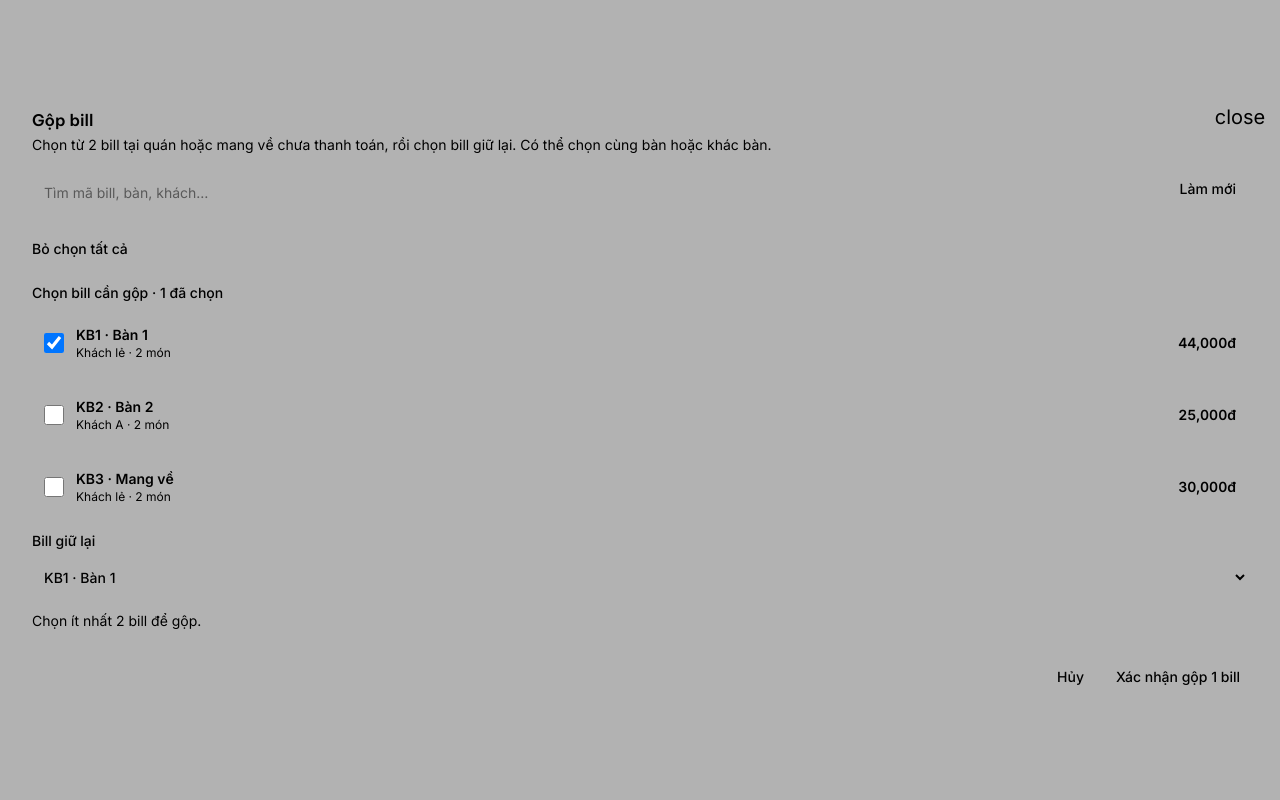
Test case: multiple bill merge selection › keeps selections across search and clears the destination if its checkbox is removed
Click the checkbox named "Chọn KB2 để gộp": (54, 415) top-left (44, 405), bottom-right (64, 425)
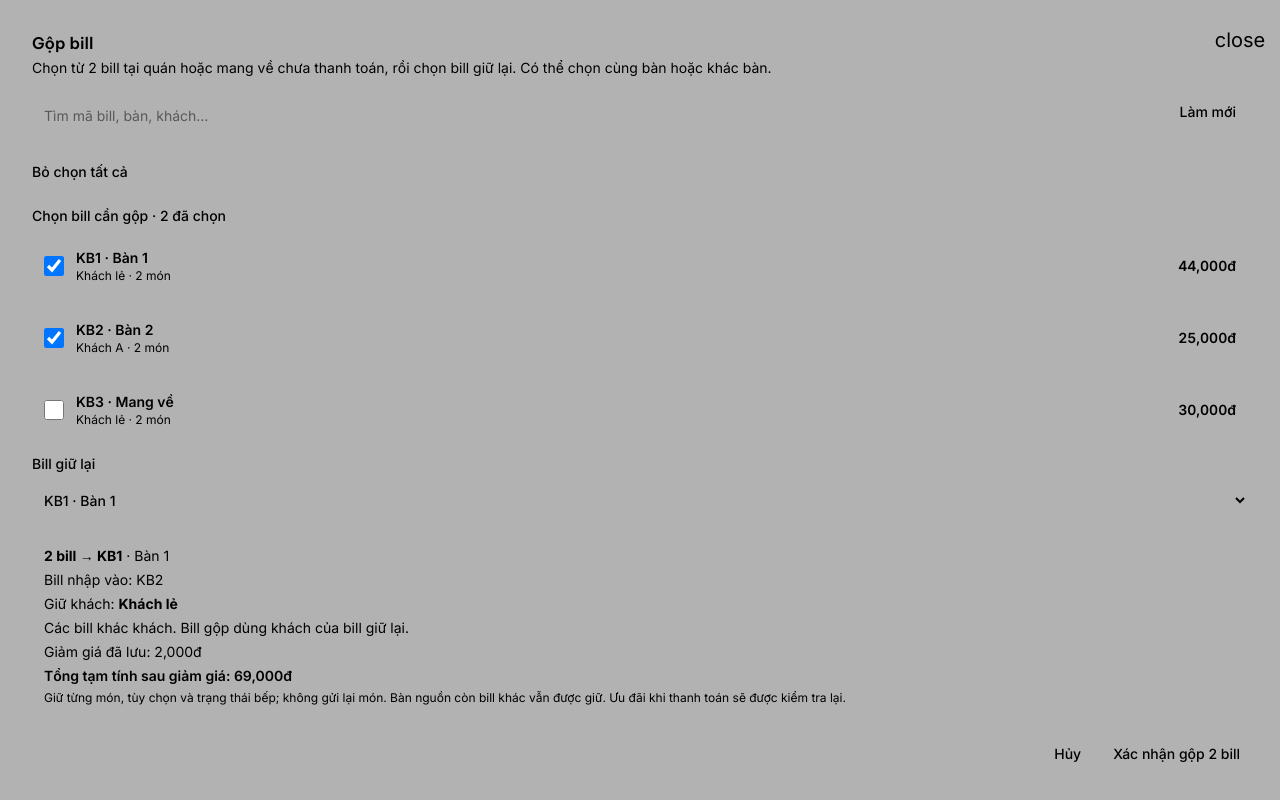
In the field named "Tìm bill để gộp": (596, 116) top-left (32, 94), bottom-right (1160, 138), type "khach a"
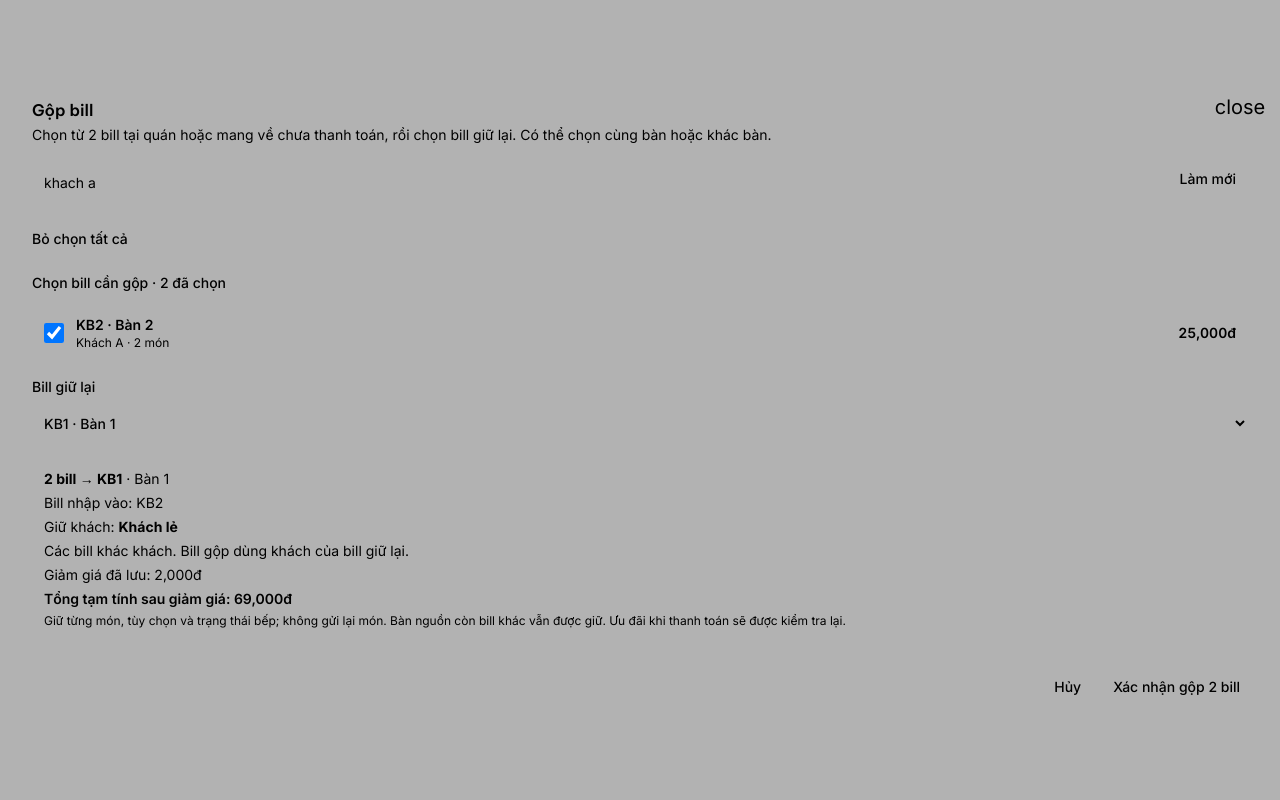
Check: the checkbox named "Chọn KB2 để gộp" is checked, box top-left (44, 323), bottom-right (64, 343)
Clear the field named "Tìm bill để gộp": (596, 183) top-left (32, 161), bottom-right (1160, 205)
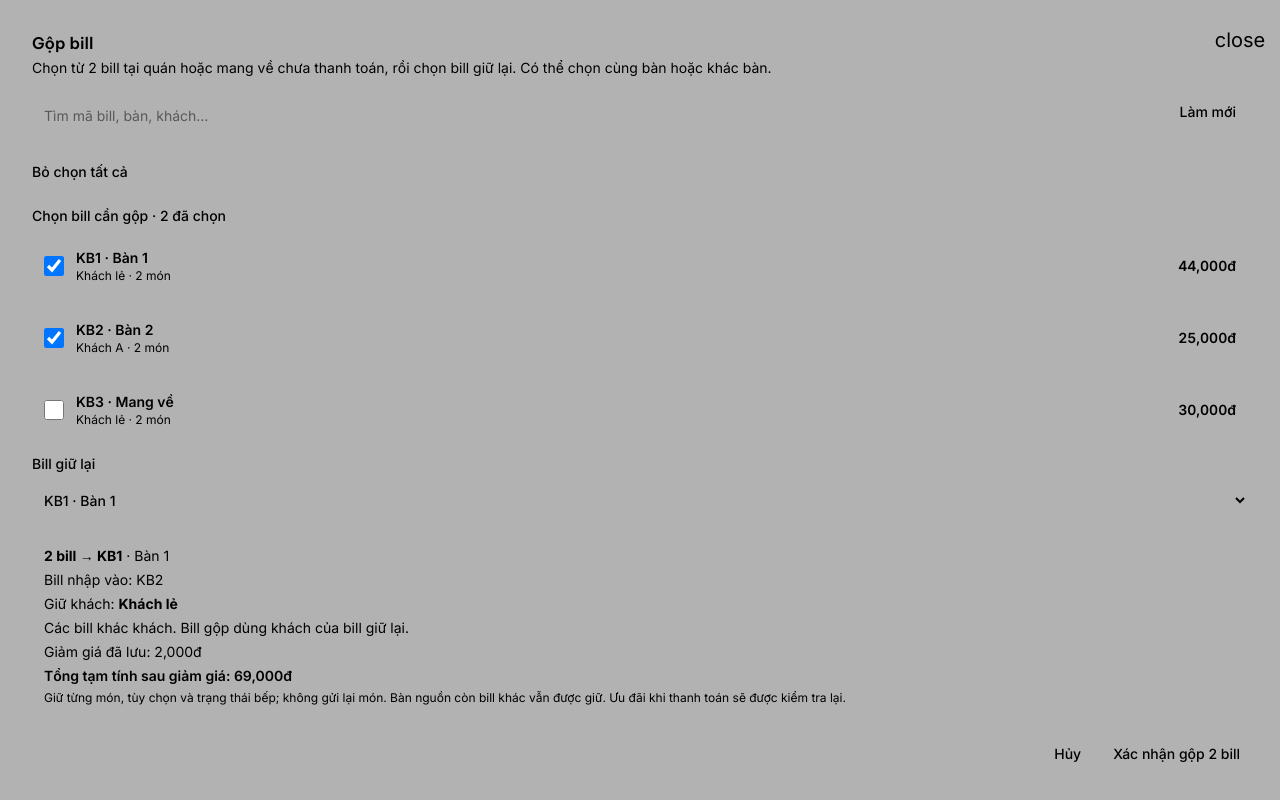
Click the checkbox named "Chọn KB1 để gộp": (54, 266) top-left (44, 256), bottom-right (64, 276)
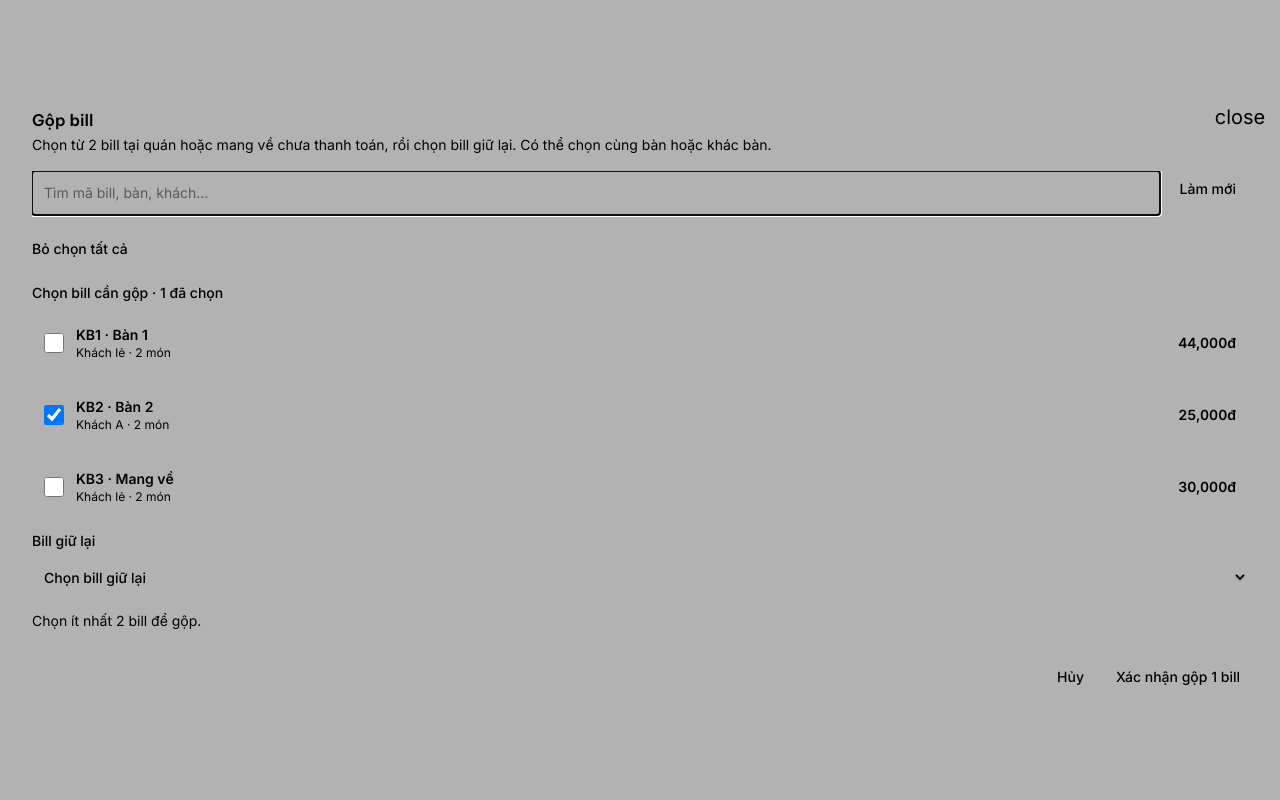
Check: the dropdown named "Bill giữ lại sau gộp" shows "Chọn bill giữ lại", box top-left (32, 555), bottom-right (1248, 599)
